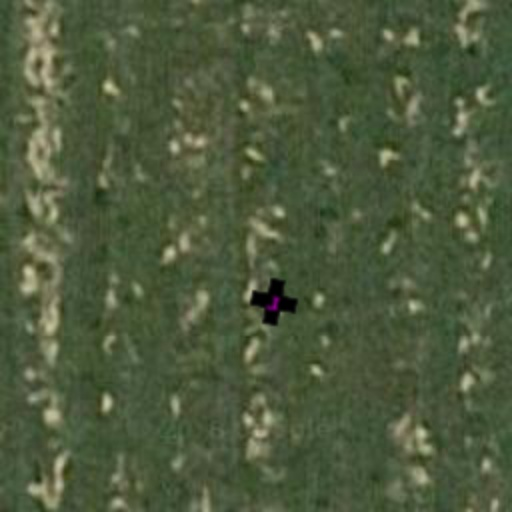cross: (246, 274, 302, 330)
